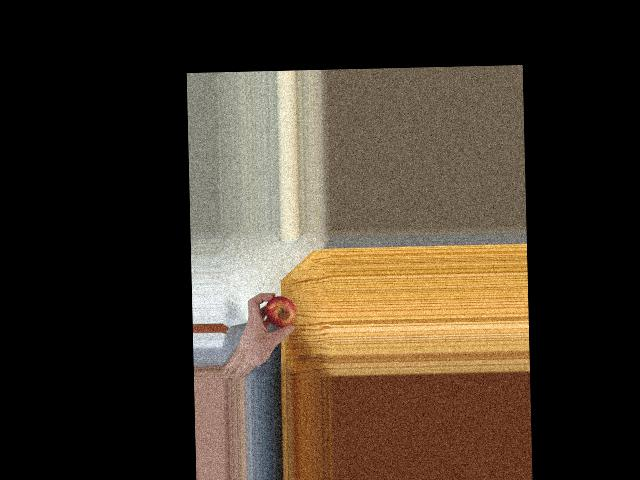apple: (267, 295, 296, 328)
